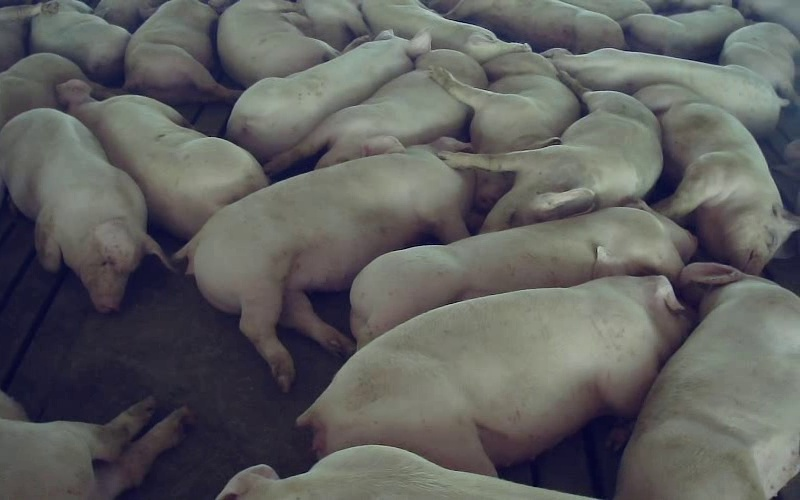pig: (298, 247, 691, 474), (177, 138, 474, 391), (617, 263, 799, 499), (442, 72, 662, 232), (0, 108, 168, 312), (57, 79, 268, 238), (636, 84, 799, 274), (265, 49, 486, 173), (227, 31, 430, 162), (544, 48, 787, 136), (0, 391, 189, 499), (216, 445, 591, 499), (431, 52, 580, 153), (217, 0, 370, 86), (124, 0, 239, 104), (361, 0, 530, 63), (446, 0, 624, 53), (0, 53, 123, 128), (29, 0, 130, 84), (621, 5, 744, 59), (719, 22, 799, 98)
